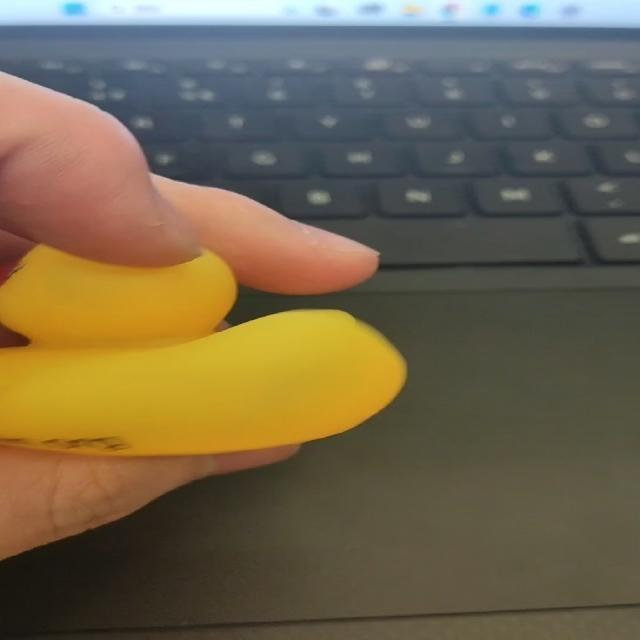rubber-duck: (0, 244, 404, 454)
